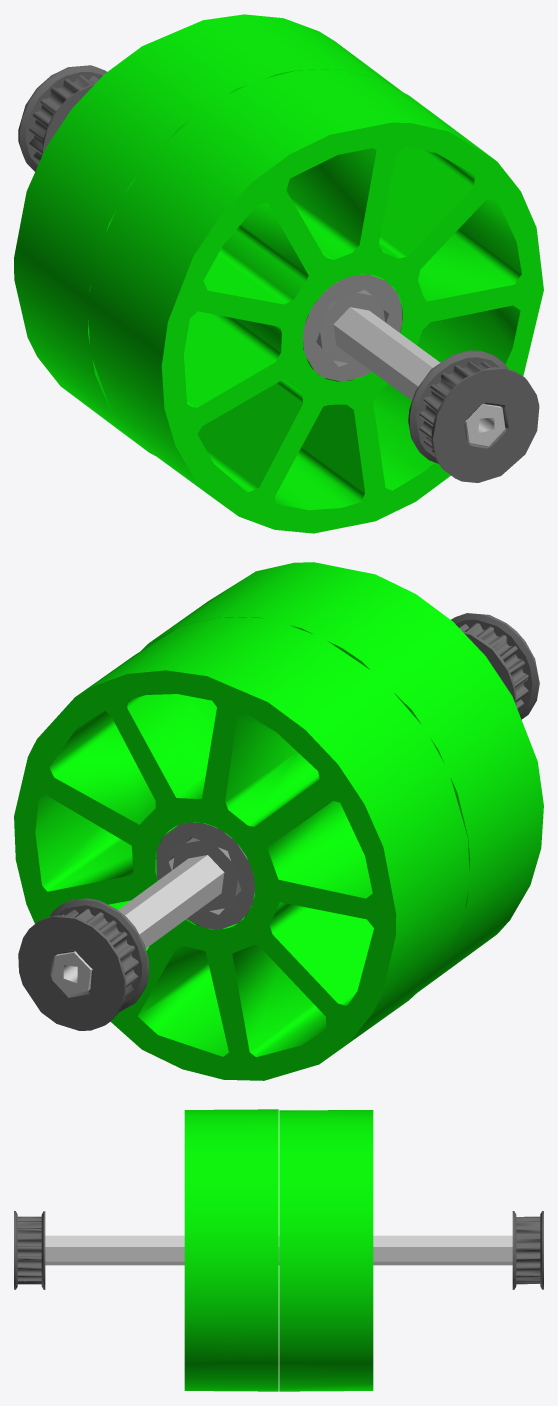
The model's file is top_wheel.glb.
3 views of the same model, one above another, from view 1: azimuth 30°, elevation 25°; view 2: azimuth 150°, elevation 25°; view 3: azimuth 270°, elevation 25° (orthographic). The views are drawn at different scales.
Parts seen in each view (by area): view 1: top_wheel_2, top_wheel_3, top_wheel_1, top_wheel_0; view 2: top_wheel_2, top_wheel_3, top_wheel_1, top_wheel_0; view 3: top_wheel_2, top_wheel_1, top_wheel_3.
Part boxes in pixels (x1=…): top_wheel_2: x1=14, y1=14, x2=543, y2=533; top_wheel_3: x1=18, y1=65, x2=539, y2=482; top_wheel_1: x1=333, y1=307, x2=505, y2=446; top_wheel_0: x1=303, y1=281, x2=385, y2=363; top_wheel_2: x1=14, y1=562, x2=543, y2=1080; top_wheel_3: x1=18, y1=613, x2=539, y2=1030; top_wheel_1: x1=52, y1=855, x2=224, y2=994; top_wheel_0: x1=172, y1=828, x2=254, y2=912; top_wheel_2: x1=184, y1=1109, x2=373, y2=1391; top_wheel_1: x1=45, y1=1235, x2=512, y2=1265; top_wheel_3: x1=14, y1=1211, x2=543, y2=1289.
Size of the model in its own units: 0.0761 by 0.076 by 0.1431.
